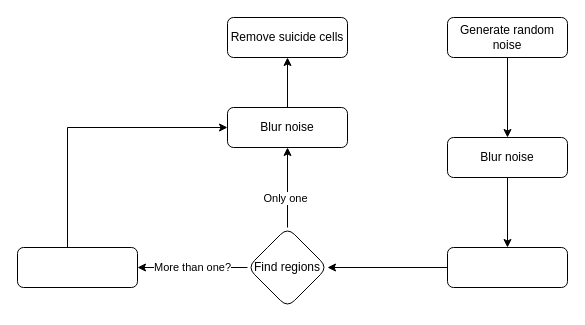
Some shapes in this 585 by 325 pixel diagram are drawn without their labels. The box of each missing label's shape, as (x1, y1, x2, y2) in pixels:
Connect regions: (16, 246, 138, 288)
Create spawning area: (446, 246, 568, 288)
